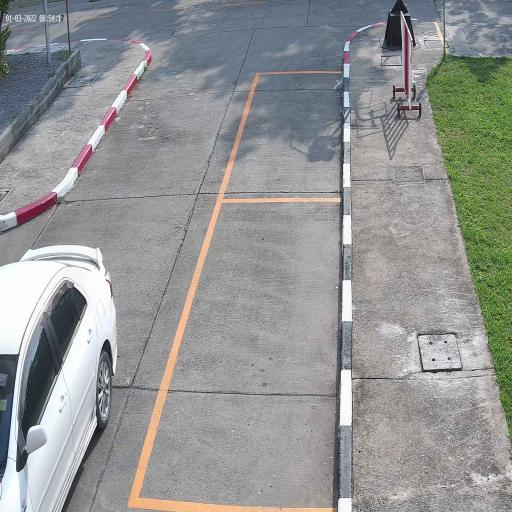car: (0, 242, 119, 512)
